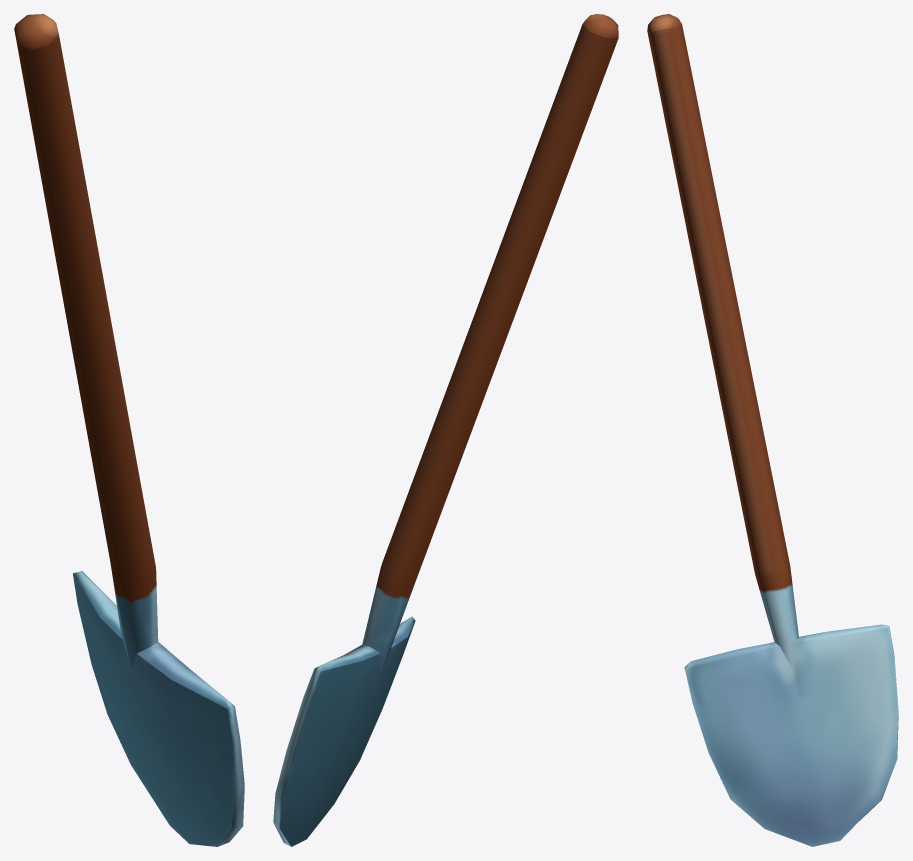
File: S_GardenThing_01.fbx
3 views of the same model, side by side, from view 1: azimuth 30°, elevation 25°; view 2: azimuth 150°, elevation 25°; view 3: azimuth 270°, elevation 25° (orthographic). The views are drawn at different scales.
Visible parts, largest first — view 1: S_GardenThing_01; view 2: S_GardenThing_01; view 3: S_GardenThing_01.
Boxes of the visible parts, x1=… form: S_GardenThing_01: x1=14, y1=14, x2=244, y2=846; S_GardenThing_01: x1=273, y1=14, x2=618, y2=846; S_GardenThing_01: x1=647, y1=14, x2=898, y2=846.
Bounding box in the file's own units: 56.64 × 184 × 57.14.
